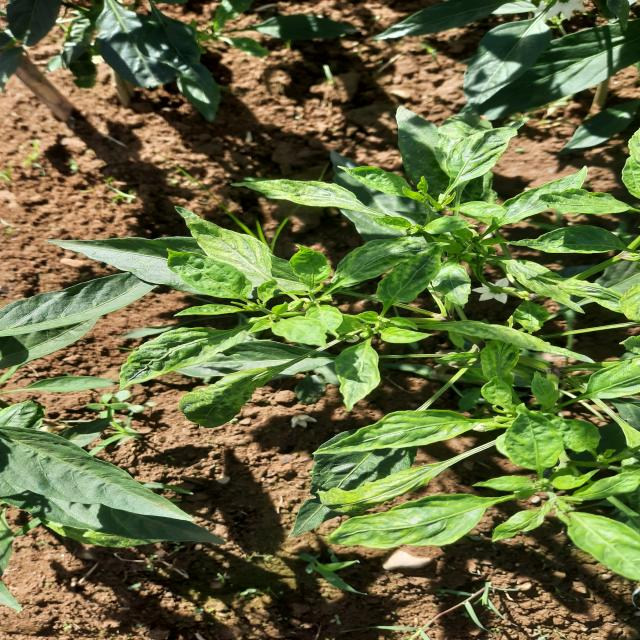thrips: (318, 483, 506, 560), (162, 198, 307, 296), (318, 400, 492, 456)
